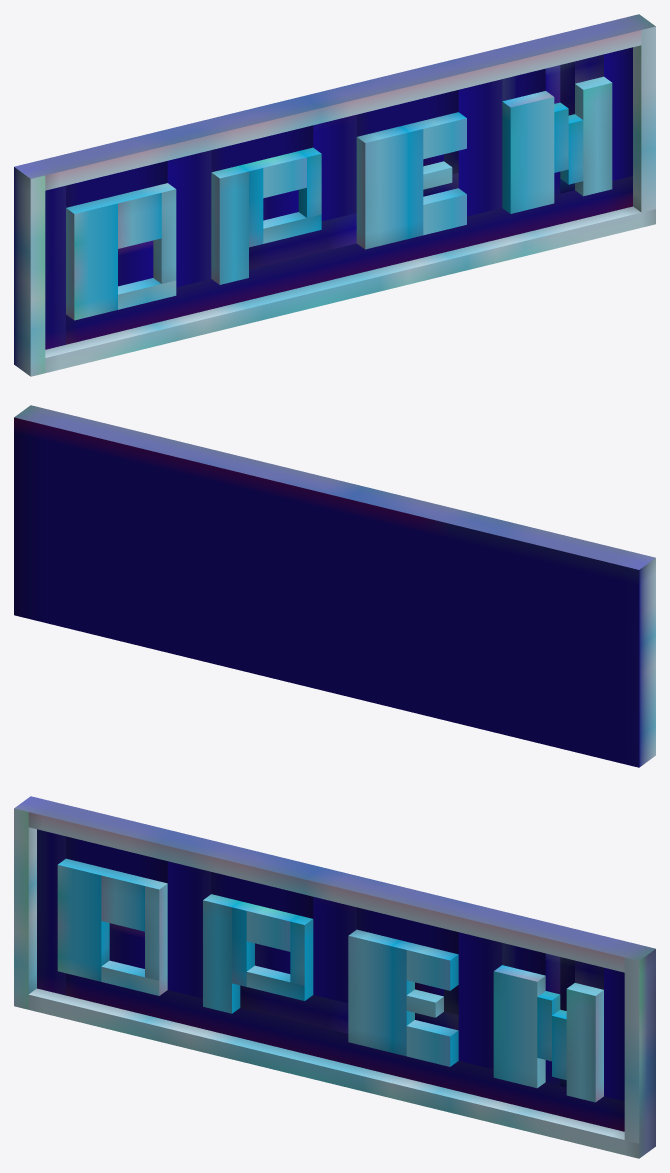
Rendered from Billboard_Open_00.fbx.
3 views of the same model, one above another, from view 1: azimuth 30°, elevation 25°; view 2: azimuth 150°, elevation 25°; view 3: azimuth 330°, elevation 25° (orthographic).
Visible parts, largest first — view 1: Billboard_Open_00; view 2: Billboard_Open_00; view 3: Billboard_Open_00.
Boxes of the visible parts, bbox=[...] form: Billboard_Open_00: bbox=[14, 14, 655, 376]; Billboard_Open_00: bbox=[14, 405, 655, 767]; Billboard_Open_00: bbox=[14, 796, 655, 1158].
Size of the model in its own units: 215 by 65 by 10.
